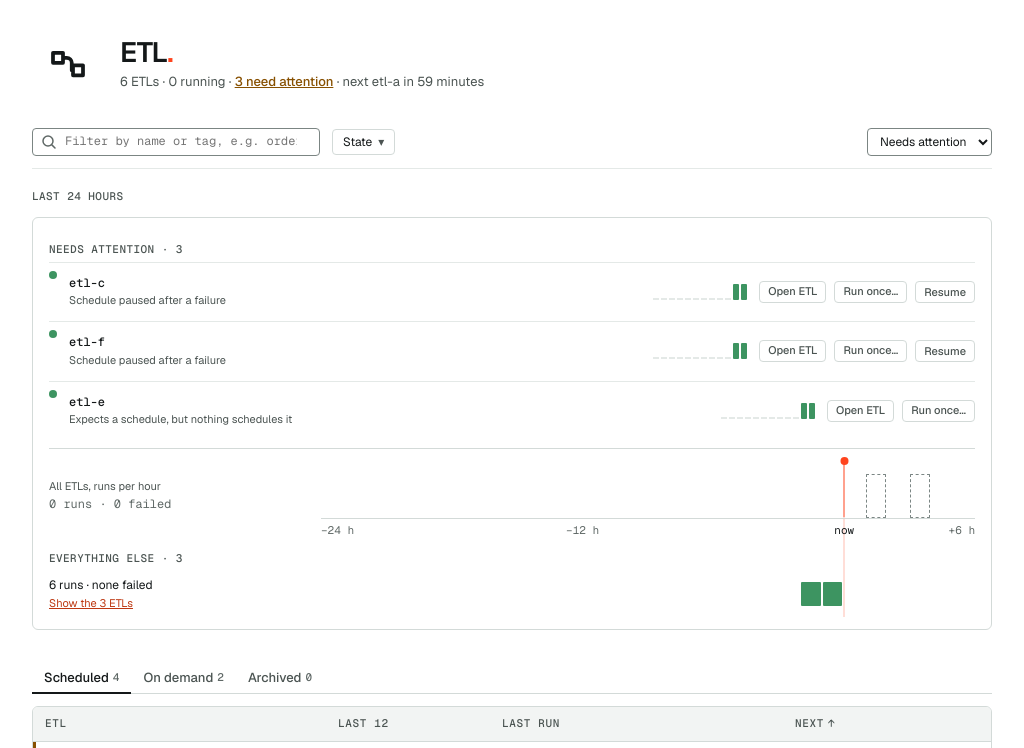
Test case: EtlDashboard tabs › switches tab, updates the URL with a replaced entry, and shows the other ETLs
Click the tab "On demand 2" at (184,678), box [132,662,236,694]
(page scrolled)
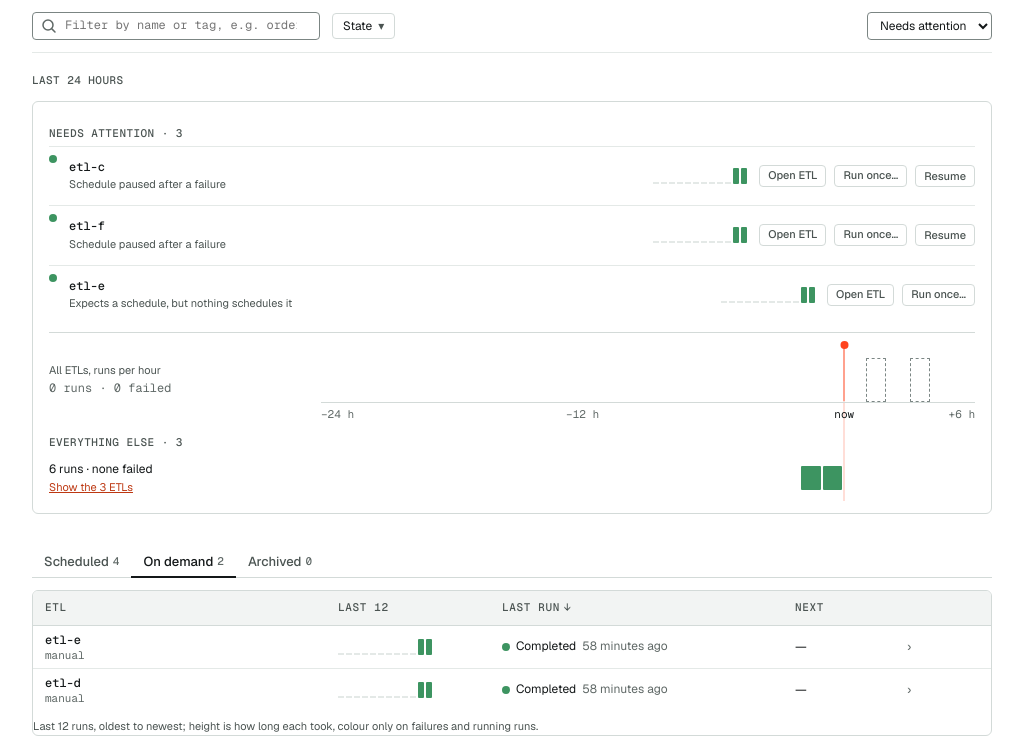
Expected: the link "etl-a" is not shown
Now the link "etl-d" is shown, box [45,675,81,691]
